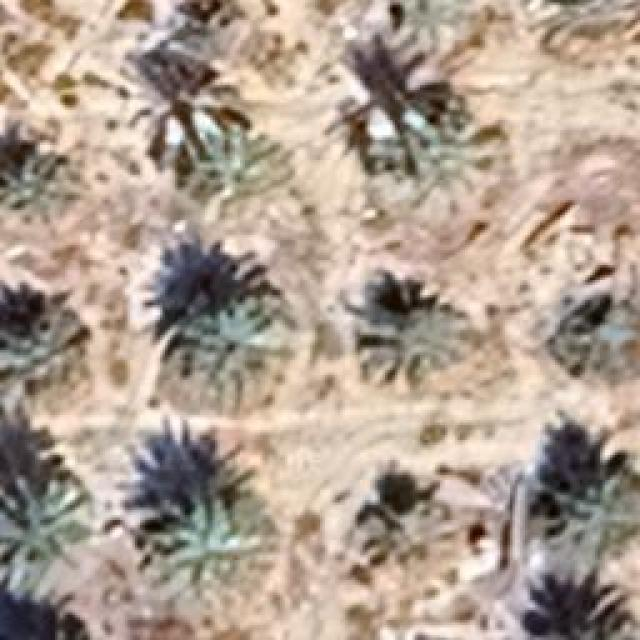PalmTree: (103, 95, 588, 507), (162, 111, 306, 214), (142, 500, 270, 610), (0, 472, 92, 597), (182, 266, 280, 379), (372, 97, 470, 195), (350, 498, 462, 580), (374, 288, 472, 372), (2, 286, 82, 382), (562, 290, 640, 378), (95, 35, 209, 95), (0, 150, 80, 222), (531, 0, 637, 46), (384, 0, 486, 44), (538, 592, 630, 640)
